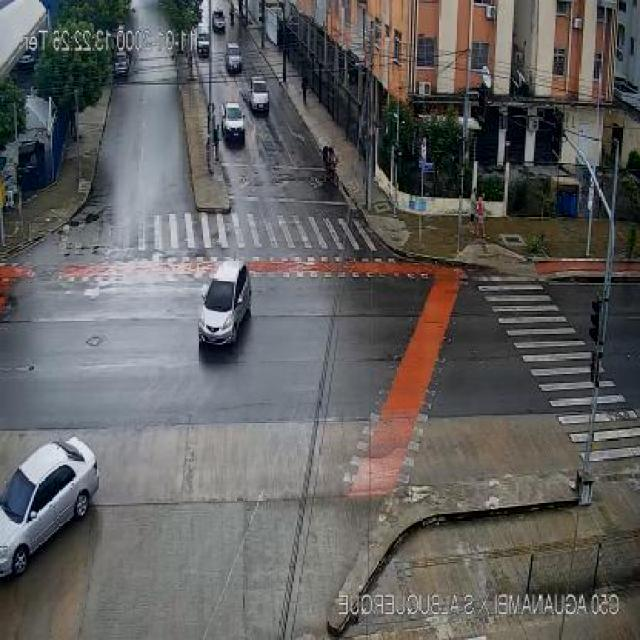Car: (2, 438, 98, 581), (198, 259, 250, 344), (221, 102, 247, 143), (612, 78, 640, 111), (248, 78, 269, 112), (225, 43, 242, 72), (114, 50, 131, 76), (212, 8, 226, 32)
Cycle: (324, 159, 340, 190)
Van: (196, 22, 212, 57)
